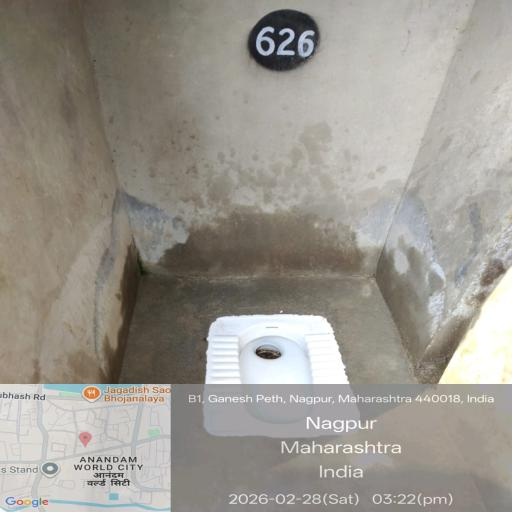clean_indian: (175, 314, 382, 447)
partial_dirty_floor: (109, 246, 469, 512), (54, 39, 494, 202)
